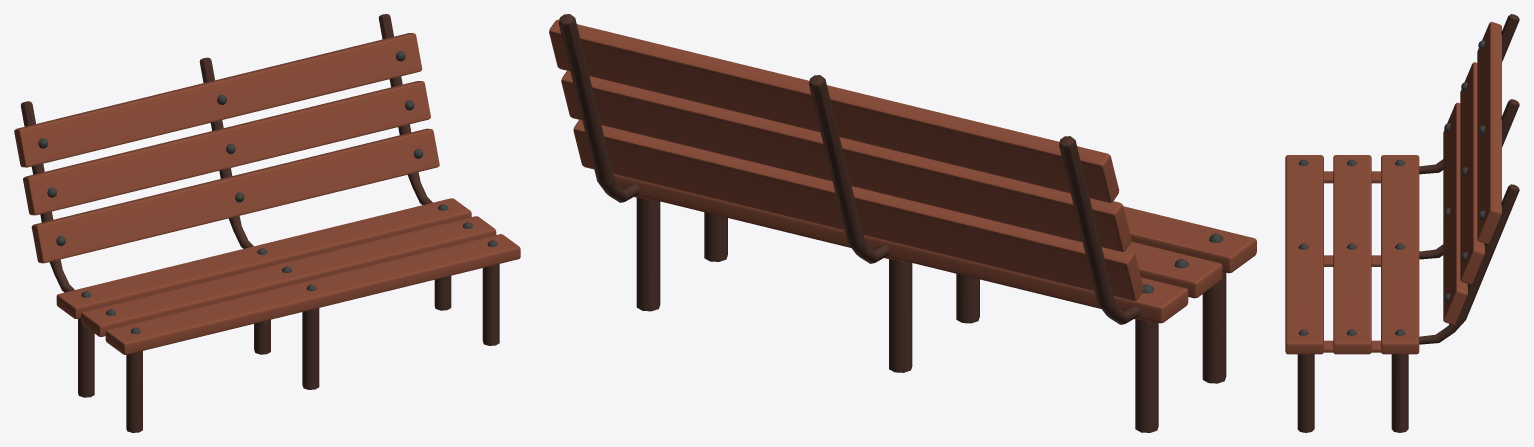
File: bench.fbx
The picture shows the model from 3 angles, left to right: view 1: azimuth 30°, elevation 25°; view 2: azimuth 150°, elevation 25°; view 3: azimuth 270°, elevation 25°; orthographic projection. The views are drawn at different scales.
Parts seen in each view (by area): view 1: bench; view 2: bench; view 3: bench.
Part boxes in pixels (bbox=[...]): bench: bbox=[14, 14, 520, 432]; bench: bbox=[549, 14, 1256, 432]; bench: bbox=[1285, 14, 1519, 432].
Bounding box in the file's own units: 1200 × 723 × 628.
